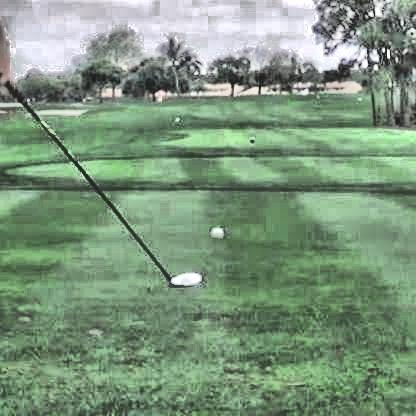golfball: (207, 223, 222, 239)
